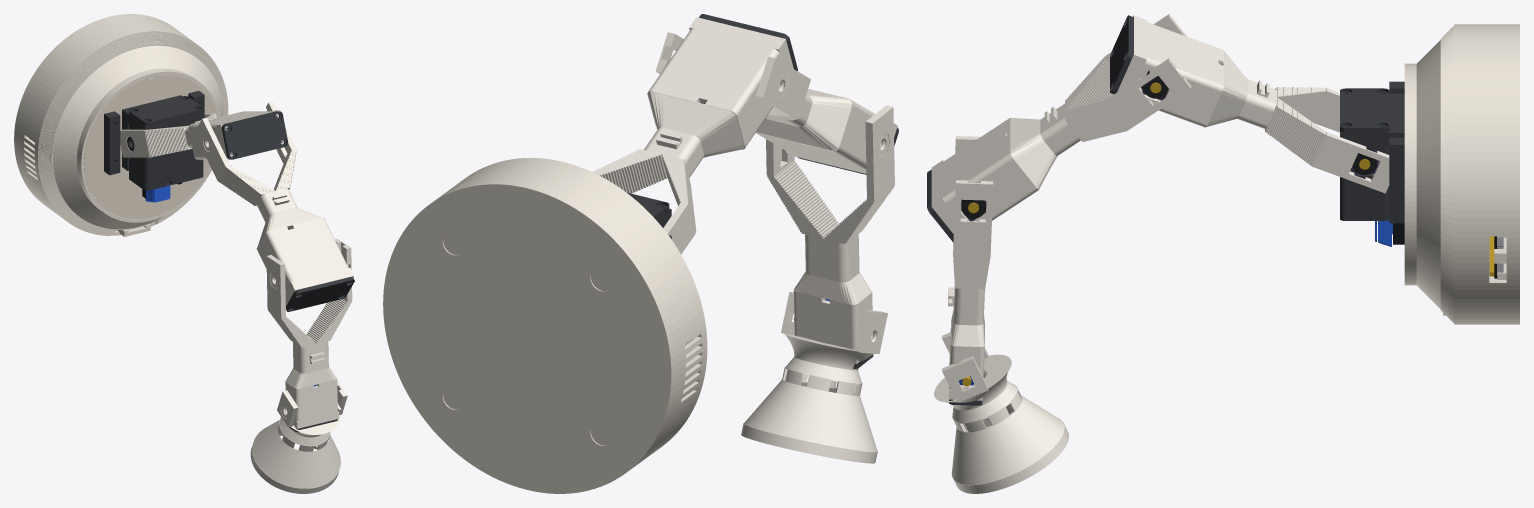
The model's file is aibo-populated.glb.
3 views of the same model, side by side, from view 1: azimuth 30°, elevation 25°; view 2: azimuth 150°, elevation 25°; view 3: azimuth 270°, elevation 25° (orthographic). The views are drawn at different scales.
Parts seen in each view (by area): view 1: shoulder, arm-upper, base, arm-fore, lid, shade, base-joint, arm-lower, cap-shoulder, cap-base, cap-elbow; view 2: base, arm-lower, arm-fore, shade, arm-upper, cap-shoulder, shoulder; view 3: base, arm-lower, arm-upper, shoulder, shade, arm-fore, base-joint, cap-base, cap-shoulder.
Part boxes in pixels (x1,y1,x2,y2): shoulder: [37, 31, 228, 235]; arm-upper: [194, 101, 353, 306]; base: [14, 14, 194, 236]; arm-fore: [266, 238, 352, 428]; lid: [84, 74, 217, 219]; shade: [250, 380, 347, 493]; base-joint: [104, 91, 204, 190]; arm-lower: [120, 110, 283, 160]; cap-shoulder: [221, 111, 288, 159]; cap-base: [129, 96, 203, 126]; cap-elbow: [286, 276, 354, 311]; base: [383, 158, 706, 493]; arm-lower: [592, 17, 793, 254]; arm-fore: [766, 105, 894, 363]; shade: [741, 292, 887, 463]; arm-upper: [655, 32, 897, 173]; cap-shoulder: [699, 14, 797, 70]; shoulder: [477, 158, 707, 440]; base: [1443, 24, 1519, 324]; arm-lower: [1117, 15, 1389, 193]; arm-upper: [931, 14, 1191, 233]; shoulder: [1404, 24, 1455, 324]; shade: [934, 332, 1068, 493]; arm-fore: [948, 136, 993, 400]; base-joint: [1340, 81, 1404, 223]; cap-base: [1340, 88, 1389, 132]; cap-shoulder: [1110, 15, 1133, 93].
Size of the model in its own units: 160 by 264 by 316.
